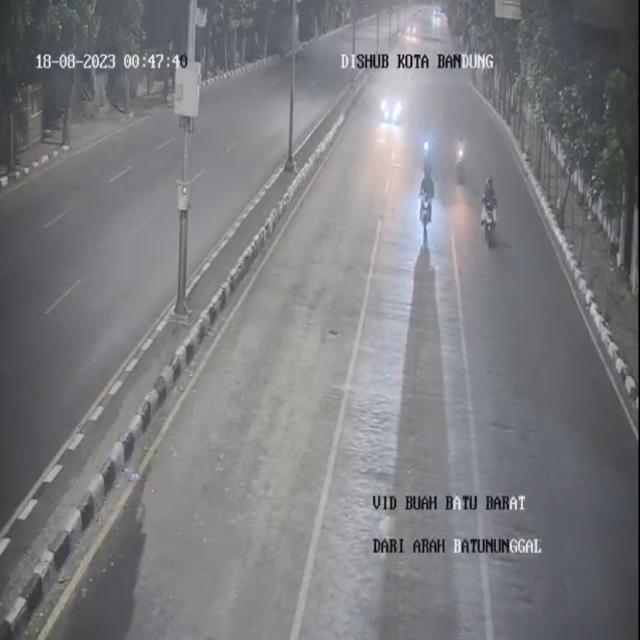cars: (380, 72, 406, 131)
motorcycle: (480, 164, 502, 247), (448, 122, 469, 190), (418, 160, 435, 240), (416, 114, 438, 164)
